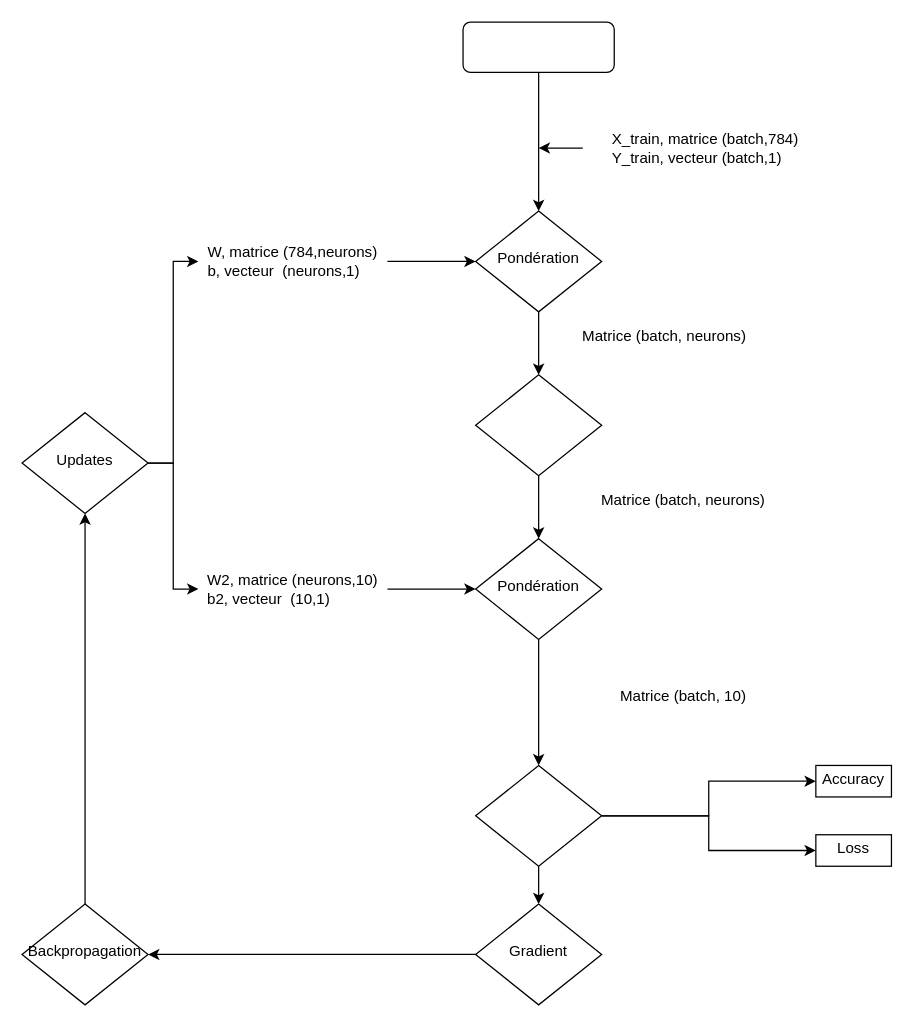
Image size: 914x1027. Some labels were removed from this diagram. The shapes that lost their labels are listed below. From the top down, each one's centre as x and y in pixels, then its label:
At (x=538, y=46): "Start".
At (x=538, y=425): "ReLu".
At (x=538, y=815): "Softmax".
